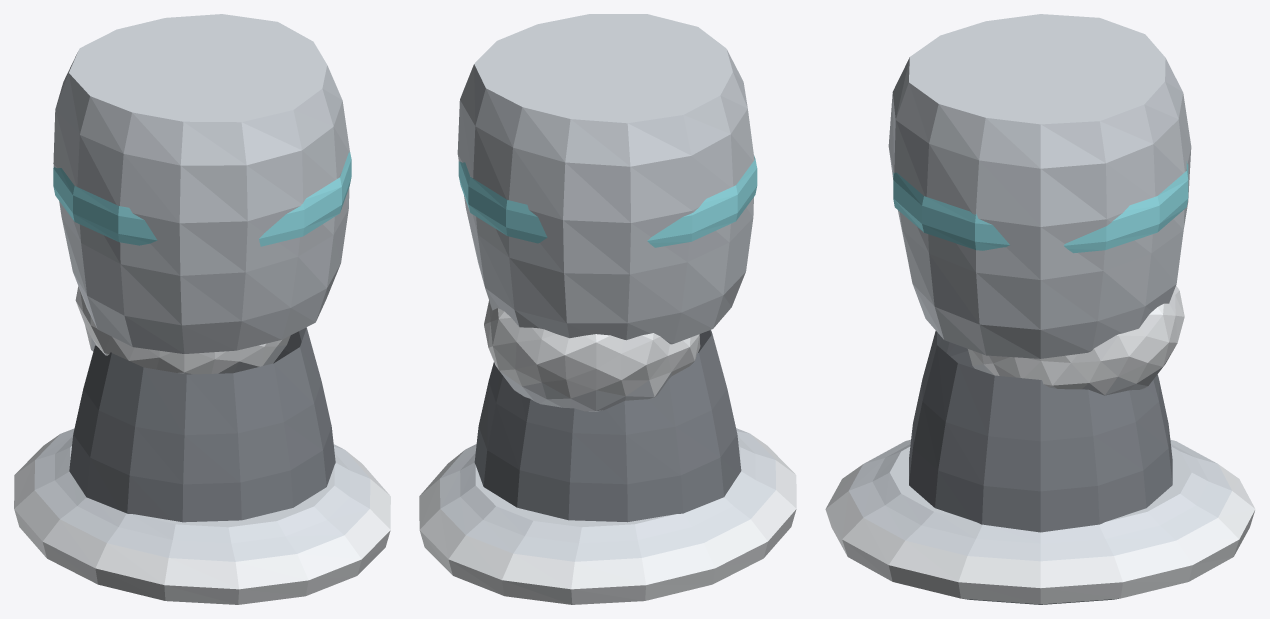
Rendered from StoneLeg.obj.
The picture shows the model from 3 angles, left to right: view 1: azimuth 30°, elevation 25°; view 2: azimuth 150°, elevation 25°; view 3: azimuth 270°, elevation 25°; orthographic projection.
Bounding box in the file's own units: 0.74 × 1.02 × 0.851.
